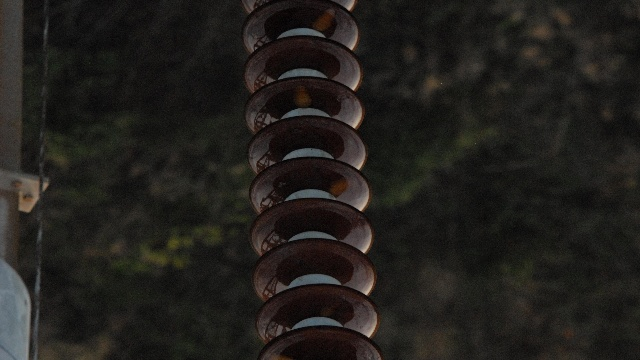insulator_unspecified: (237, 0, 385, 359)
pollution_flashover_local: (310, 6, 334, 34), (291, 84, 311, 111), (328, 178, 349, 201)
